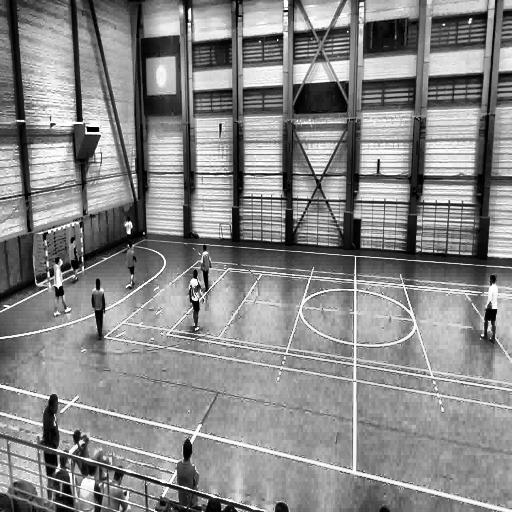ball: (142, 230, 147, 238)
player: (38, 395, 59, 499), (72, 429, 114, 480), (175, 438, 199, 511), (53, 451, 78, 512), (76, 458, 102, 512), (101, 466, 130, 512), (479, 272, 498, 342), (52, 255, 70, 316), (188, 268, 203, 332), (92, 277, 106, 340), (200, 242, 213, 294), (67, 236, 81, 284), (125, 240, 137, 290), (123, 215, 134, 244)
